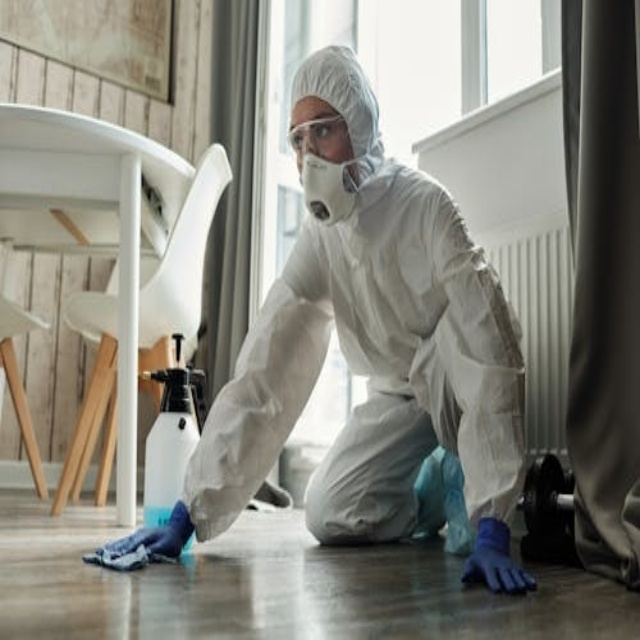Gafas: (289, 115, 346, 154)
Guantes: (91, 491, 197, 569), (461, 512, 539, 602)
Mascara: (302, 152, 362, 227)
